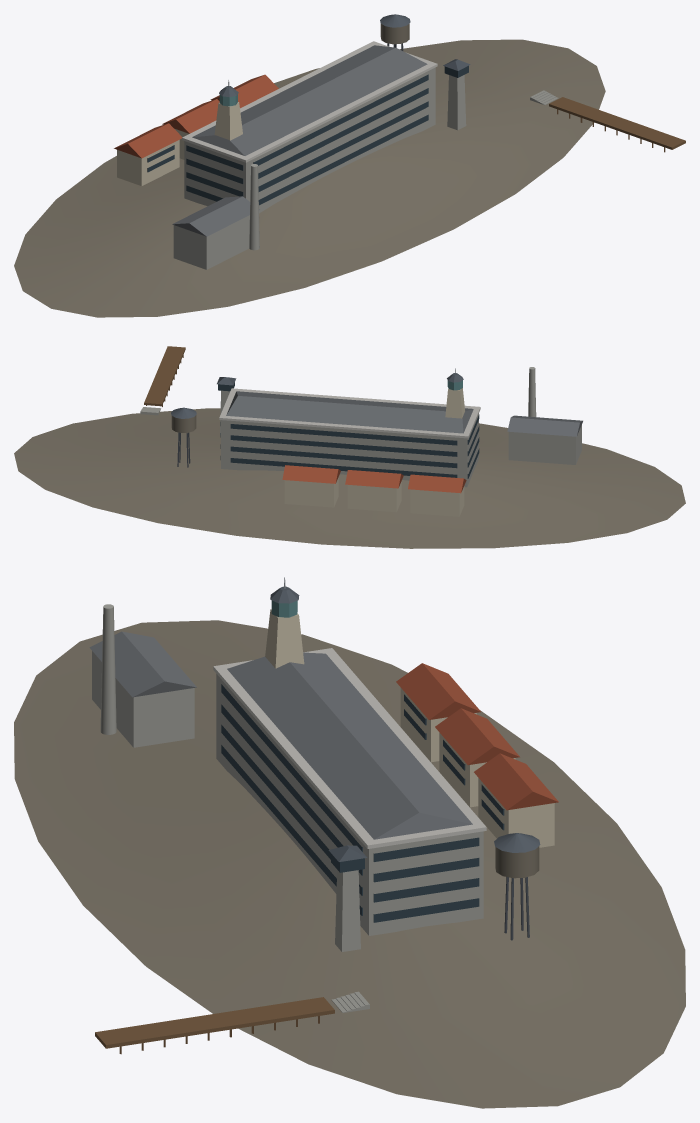
The model's file is desktop.glb.
3 views of the same model, one above another, from view 1: azimuth 30°, elevation 25°; view 2: azimuth 150°, elevation 25°; view 3: azimuth 270°, elevation 25° (orthographic). The views are drawn at different scales.
Parts seen in each view (by area): view 1: lm.alcatraz; view 2: lm.alcatraz; view 3: lm.alcatraz.
Boxes of the visible parts, left/top/right/bottom form: lm.alcatraz: left=14, top=14, right=685, bottom=317; lm.alcatraz: left=14, top=346, right=685, bottom=548; lm.alcatraz: left=14, top=577, right=685, bottom=1108.
Bounding box in the file's own units: 285 × 57.4 × 166.
